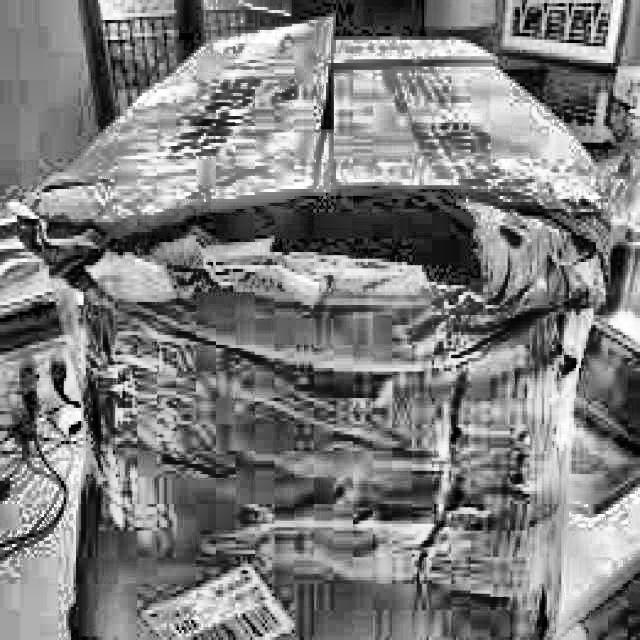box: (0, 4, 625, 639)
hole: (113, 183, 603, 317)
